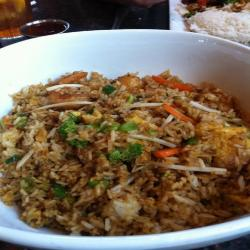rice: (7, 73, 250, 233)
